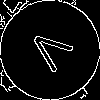V: (25, 25, 82, 79)
